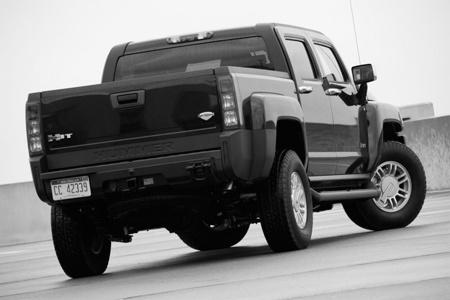car: (24, 20, 429, 278)
